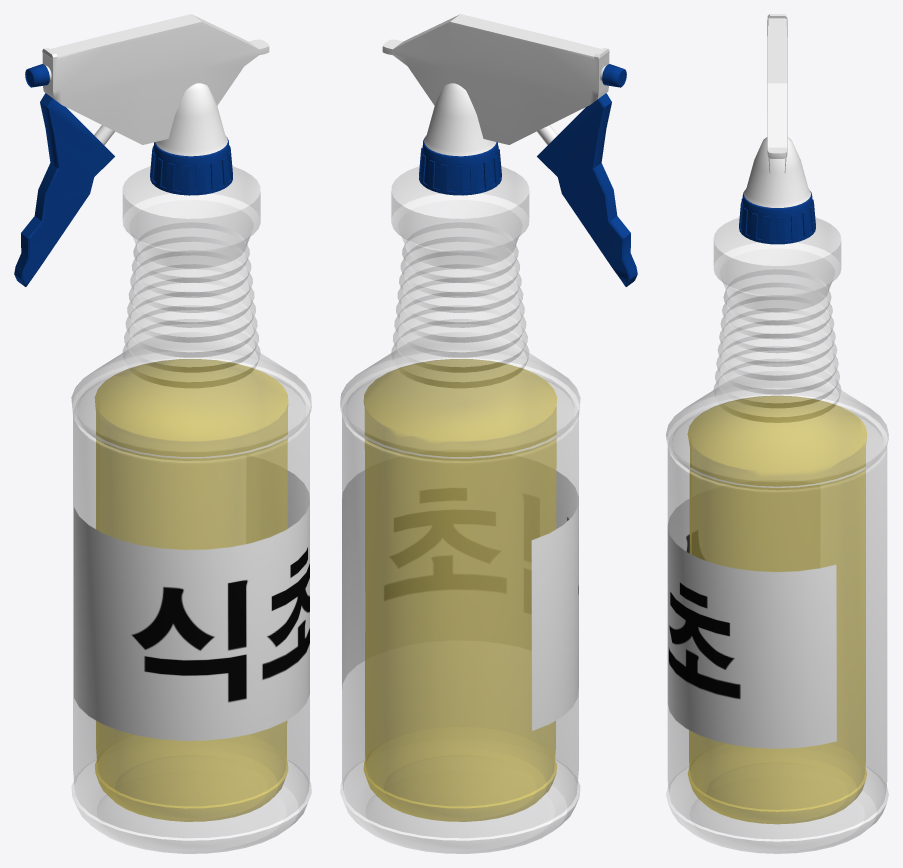
Rendered from Kitchen_Scrub.glb.
3 renders of one model, left to right at view 1: azimuth 30°, elevation 25°; view 2: azimuth 150°, elevation 25°; view 3: azimuth 270°, elevation 25°, orthographic. The views are drawn at different scales.
Visible parts, largest first — view 1: Spray Bottle, Spray Bottle_01 - Default_0.001; view 2: Spray Bottle, Spray Bottle_01 - Default_0.001; view 3: Spray Bottle, Spray Bottle_01 - Default_0.001.
Part boxes in pixels (x1,y1,x2,y2): Spray Bottle: (14,14,311,853); Spray Bottle_01 - Default_0.001: (94,359,288,821); Spray Bottle: (340,14,637,853); Spray Bottle_01 - Default_0.001: (363,359,557,821); Spray Bottle: (666,14,888,853); Spray Bottle_01 - Default_0.001: (687,395,867,824).
Bounding box in the file's own units: 1.56 × 4.26 × 1.17.
4 materials, 1 textured.
